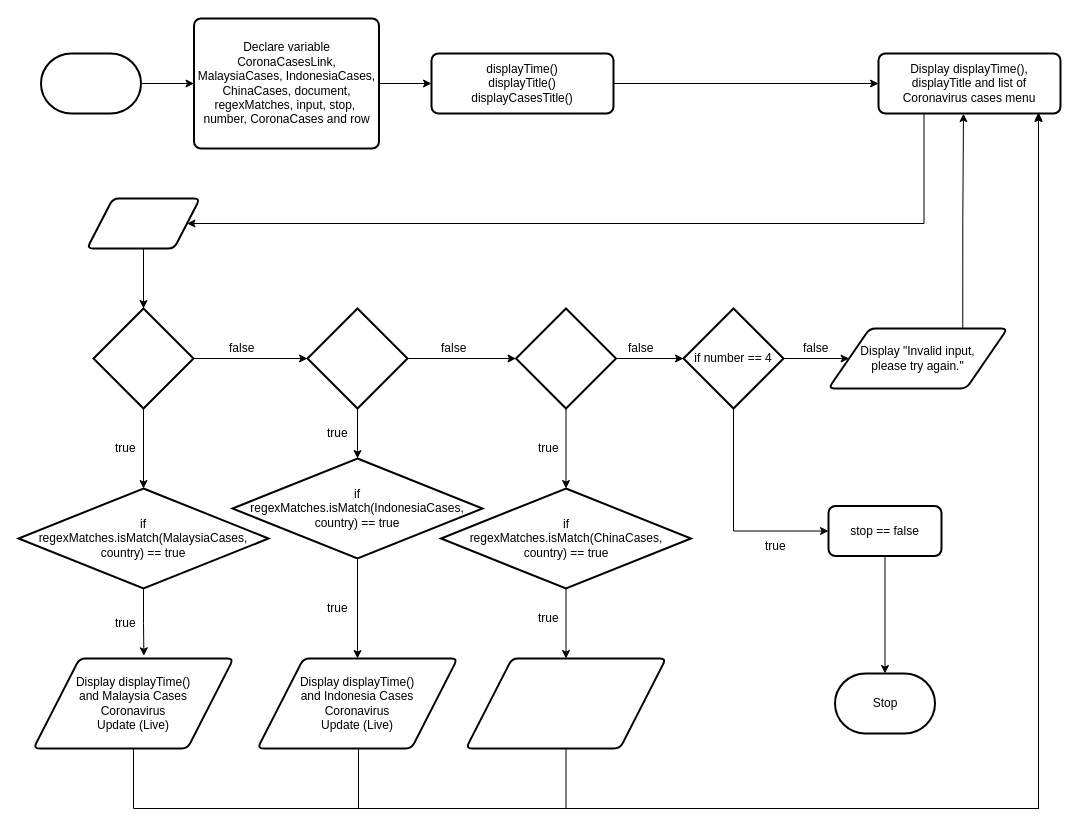
Image size: 1078x834. Some labels were removed from this diagram. Each missing label, with the centre of its shape:
"Display displayTime() and China Cases Coronavirus Update (Live)" belongs at [565,703].
"if number == 1" belongs at [143,358].
"if number == 2" belongs at [357,358].
"if number == 3" belongs at [565,358].
"Input number" belongs at [143,223].
"Start" belongs at [91,83].
